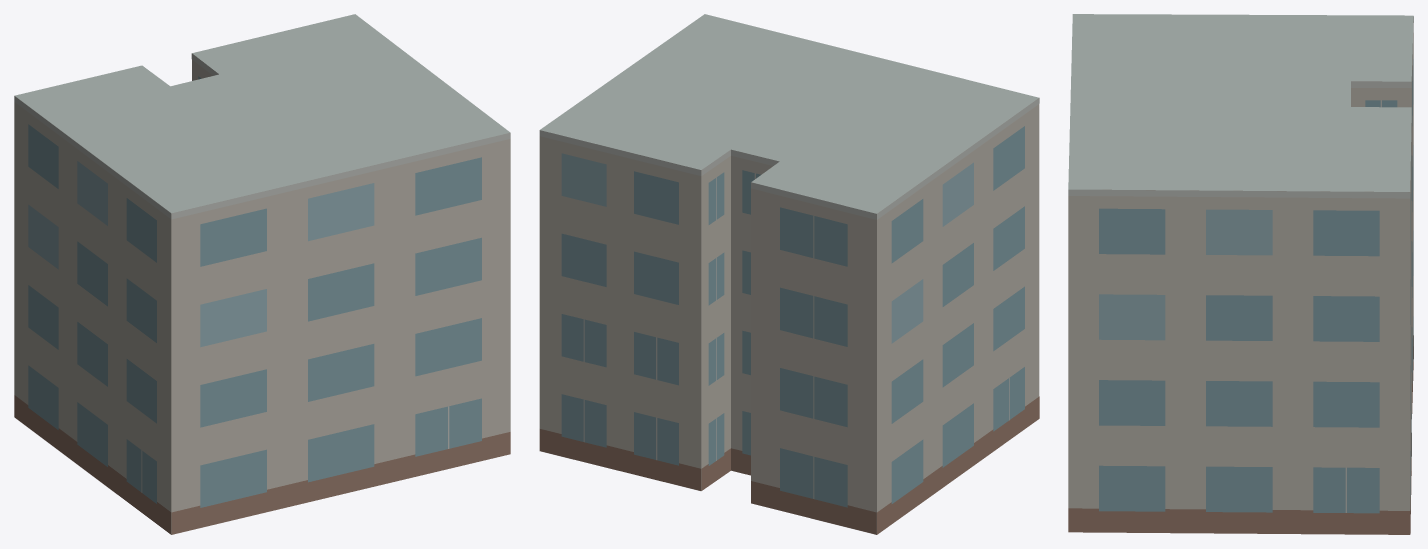
The model's file is survey-upis-32840581.glb.
3 views of the same model, side by side, from view 1: azimuth 30°, elevation 25°; view 2: azimuth 150°, elevation 25°; view 3: azimuth 270°, elevation 25° (orthographic). The views are drawn at different scales.
Parts seen in each view (by area): view 1: survey-upis-32840581.tmp; view 2: survey-upis-32840581.tmp; view 3: survey-upis-32840581.tmp.
Part boxes in pixels (<box>): survey-upis-32840581.tmp: <box>14,14,510,534</box>; survey-upis-32840581.tmp: <box>539,14,1039,534</box>; survey-upis-32840581.tmp: <box>1068,14,1413,534</box>.
Bounding box in the file's own units: 14.27 × 12.8 × 11.7.
